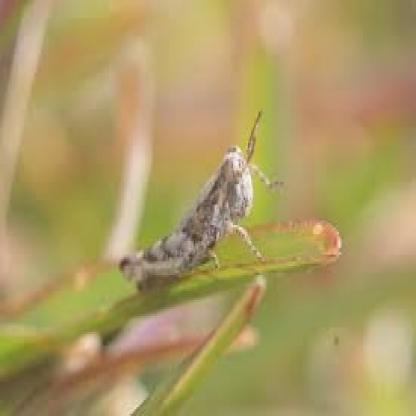grasshopper: (115, 104, 272, 286)
